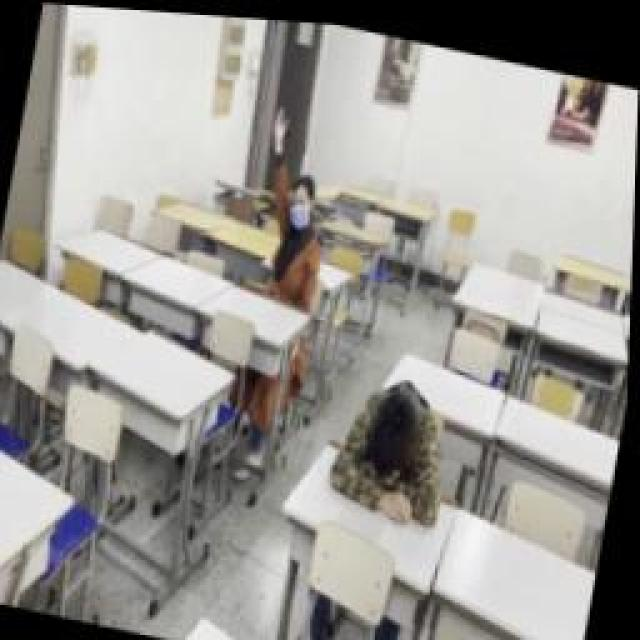sleep: (333, 365, 455, 517)
study: (238, 98, 348, 310)
